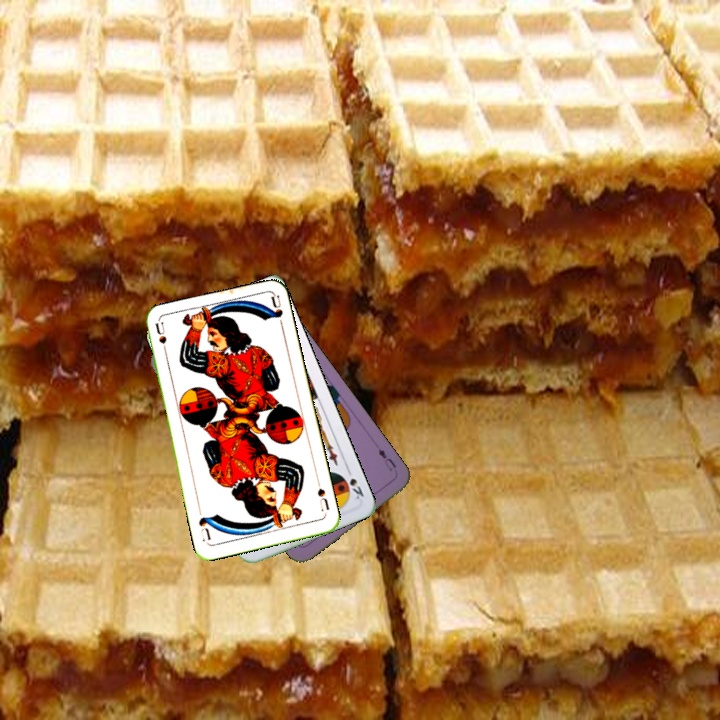EU: (374, 444, 399, 473)
SK: (337, 464, 366, 502)
SU: (151, 319, 170, 360), (313, 477, 332, 517)
